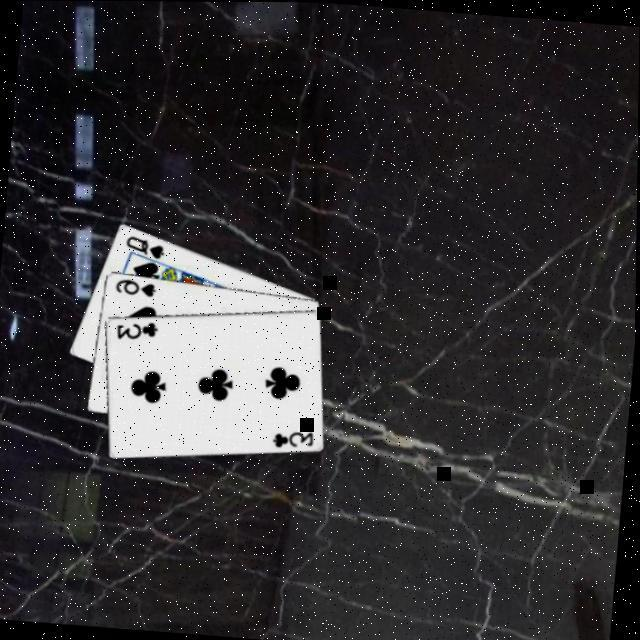3C: (111, 315, 159, 342), (267, 424, 315, 451)
6S: (111, 273, 158, 297)
QS: (120, 230, 166, 259)
